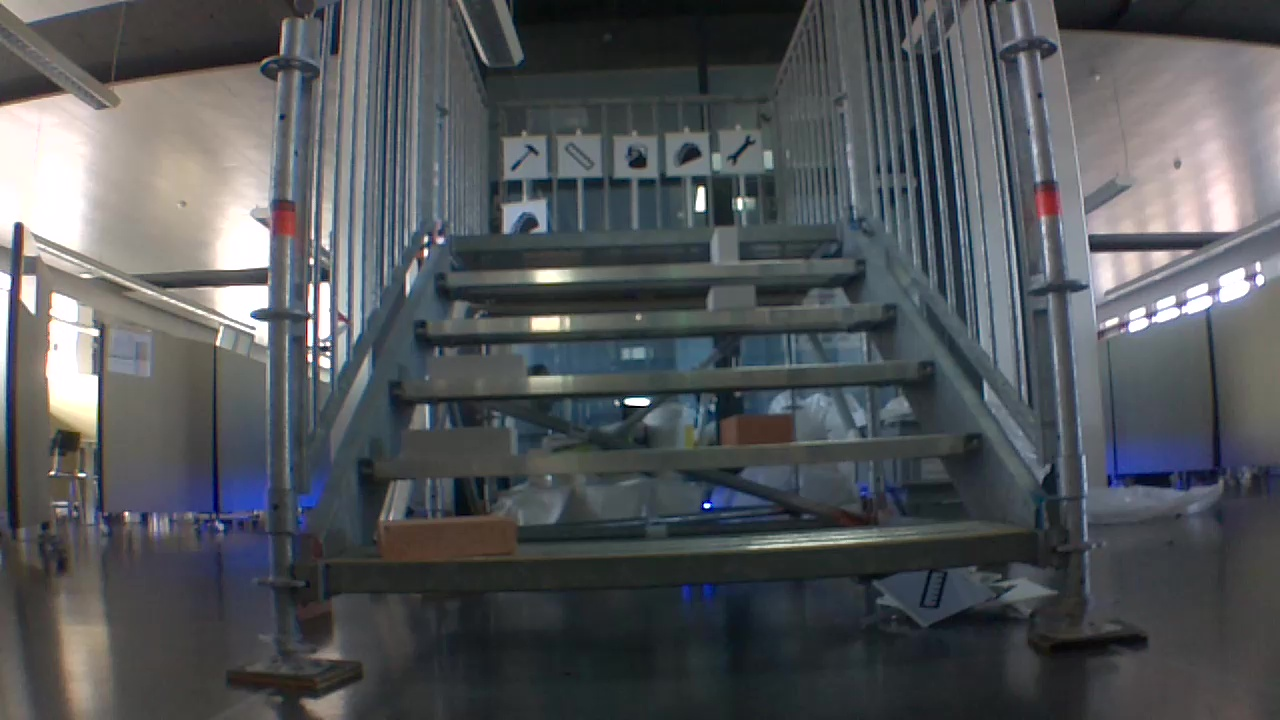brick: (381, 515, 514, 561), (405, 428, 517, 457), (430, 355, 526, 378), (724, 415, 789, 444), (706, 286, 756, 310), (711, 225, 738, 261)
bucket: (617, 141, 652, 171)
edge: (324, 531, 1040, 590), (356, 432, 982, 478), (391, 358, 938, 394), (418, 301, 898, 333), (433, 255, 865, 284), (448, 224, 842, 248)
hammer: (502, 139, 540, 174)
ruler: (558, 140, 596, 176)
stairs: (221, 2, 1152, 703)
steps: (320, 217, 1047, 614)
taco: (671, 141, 703, 168), (508, 208, 537, 234)
wrench: (720, 129, 756, 169)
